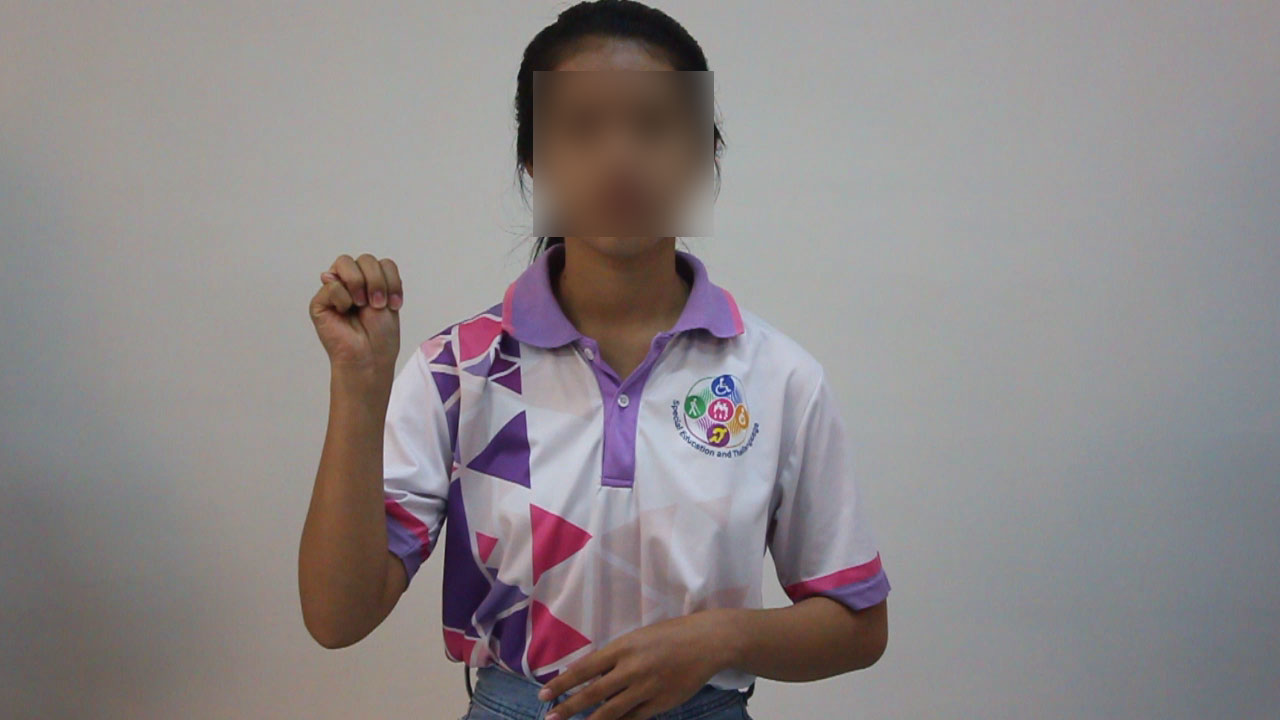mor: (298, 230, 424, 402)
